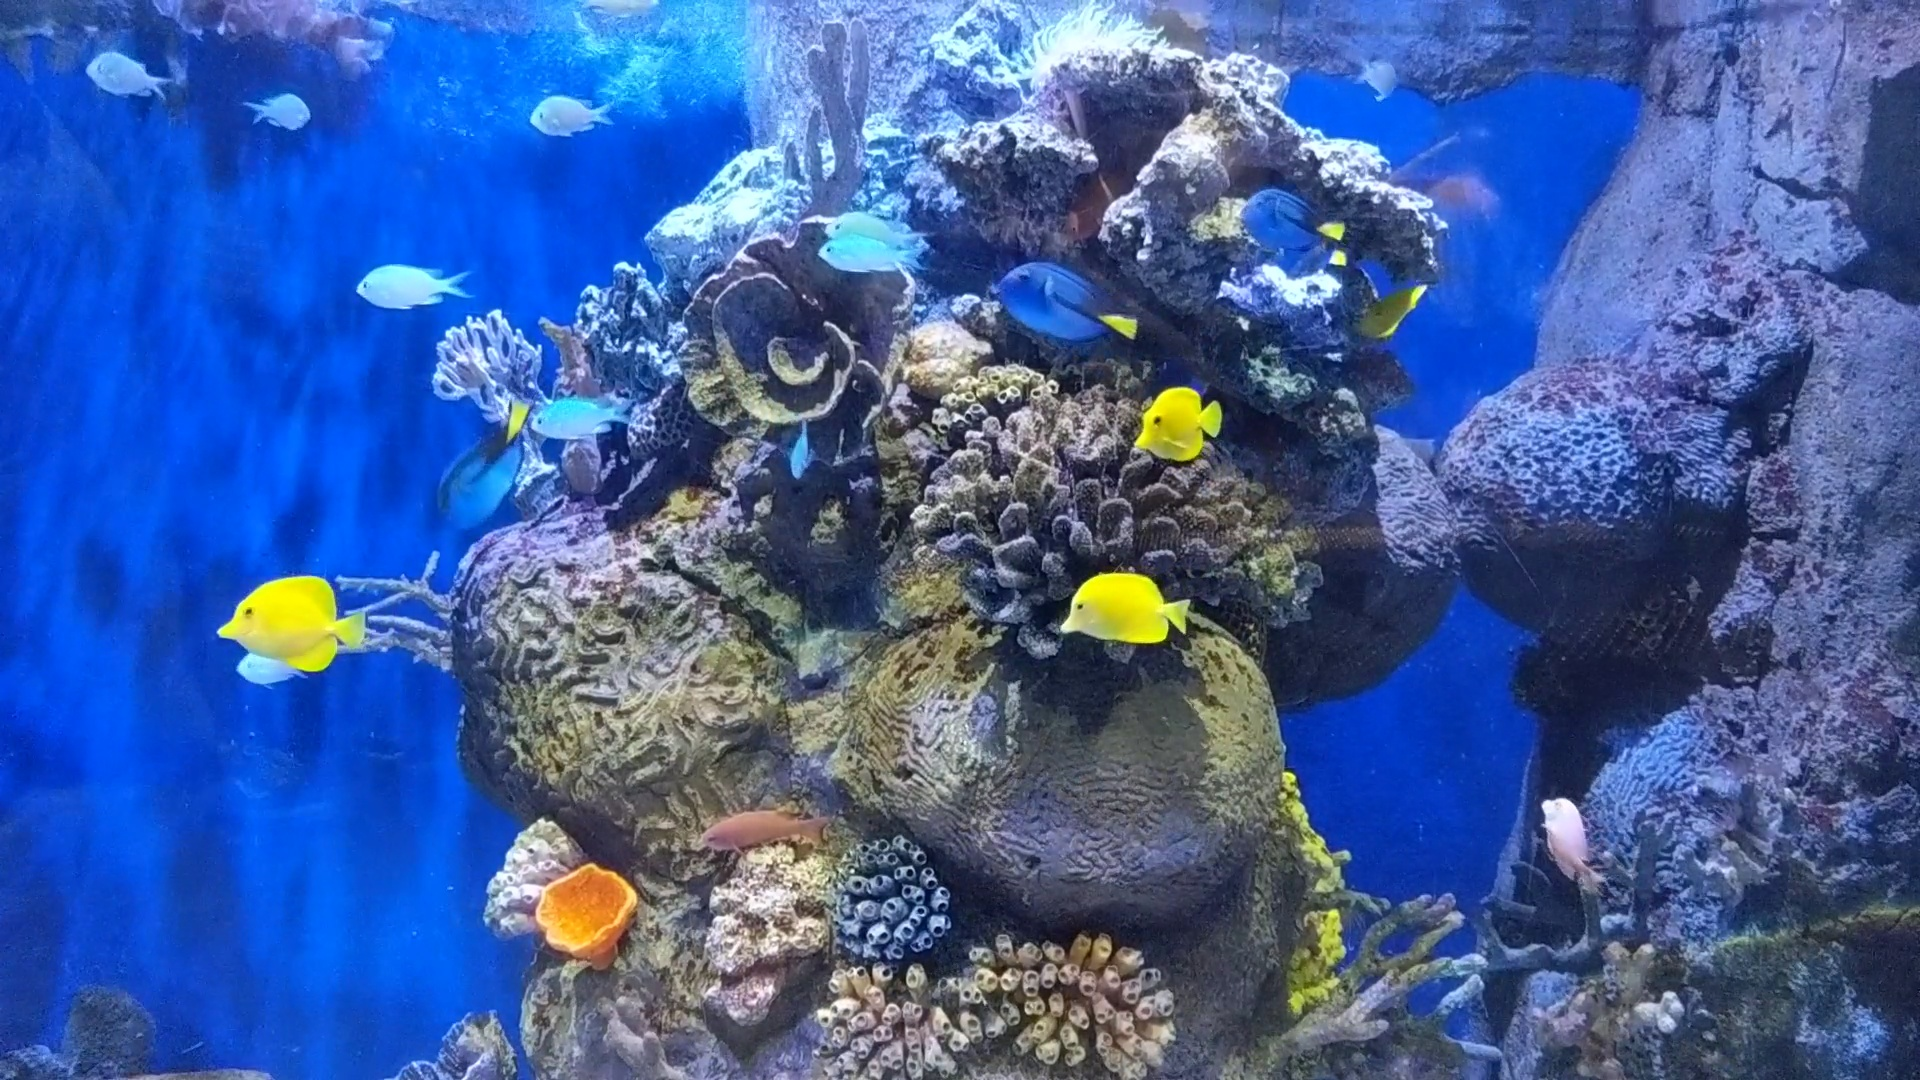blue tang surgeonfish: (977, 243, 1153, 364), (415, 407, 554, 516), (1225, 173, 1352, 287)
damselfish: (342, 251, 477, 324), (75, 41, 171, 119), (807, 227, 920, 284), (522, 88, 622, 149), (526, 392, 646, 436), (822, 204, 924, 249), (243, 84, 316, 125), (1354, 49, 1404, 105), (783, 422, 823, 480)
pink fish: (1522, 775, 1629, 903)
saddle butterfly fish: (194, 566, 372, 674), (1047, 562, 1205, 659), (1121, 380, 1234, 468)
